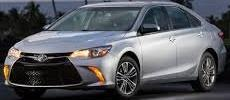Cars: (4, 2, 226, 98)
